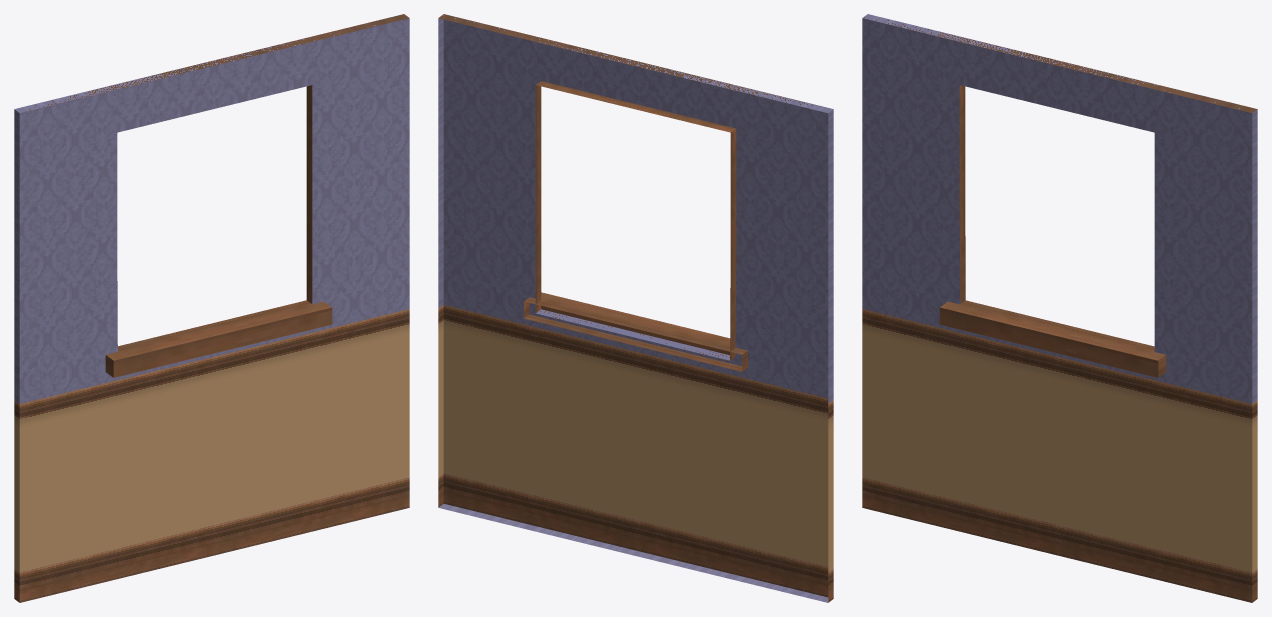
Rendered from window_wall0.glb.
3 views of the same model, side by side, from view 1: azimuth 30°, elevation 25°; view 2: azimuth 150°, elevation 25°; view 3: azimuth 330°, elevation 25° (orthographic).
Parts seen in each view (by area): view 1: window_wall0; view 2: window_wall0; view 3: window_wall0.
Part boxes in pixels (x1,y1,x2,y2): window_wall0: (14,14,409,602); window_wall0: (438,14,833,602); window_wall0: (862,14,1257,602).
Size of the model in its own units: 2 by 2.4 by 0.1226.
1 material, 1 textured.
